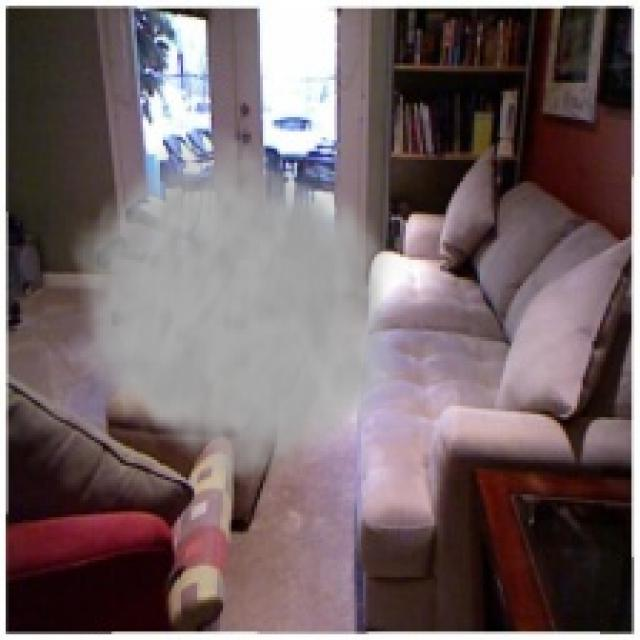smoke: (69, 120, 414, 494)
